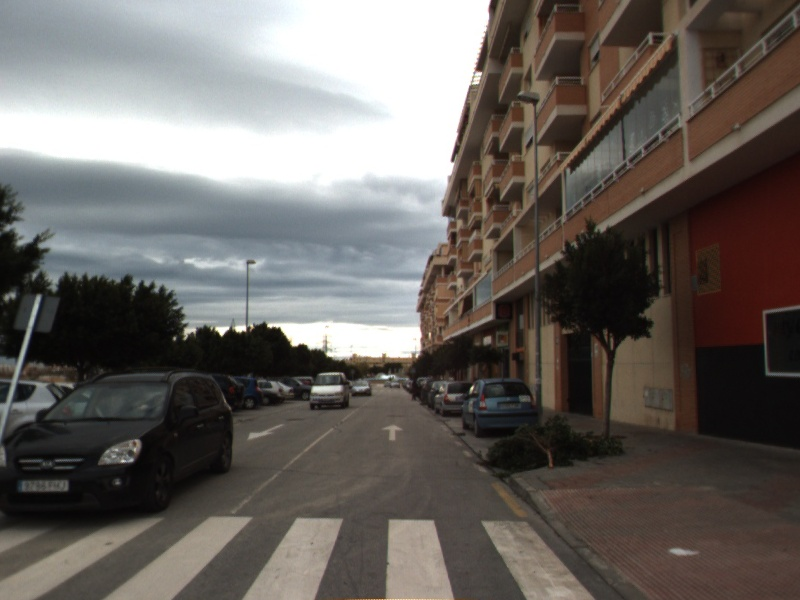STRAIGHT: (379, 422, 406, 442)
